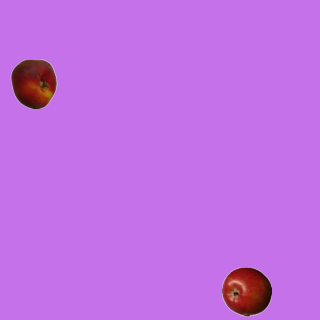Apple Braeburn: (221, 266, 271, 316)
Nectarine Flat: (8, 58, 58, 108)
